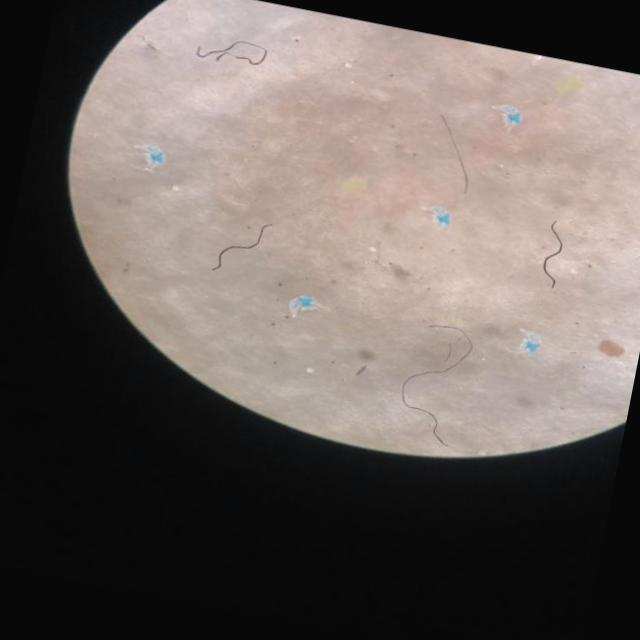fiber: (400, 326, 472, 447), (213, 225, 268, 271), (440, 117, 467, 192), (195, 41, 267, 66), (542, 223, 562, 288)
film: (289, 296, 318, 317), (501, 108, 521, 127), (141, 145, 165, 159), (429, 211, 449, 227), (523, 334, 539, 354)
fragment: (341, 176, 366, 196), (598, 340, 623, 359), (556, 77, 581, 96)
pellet: (306, 368, 312, 373), (370, 247, 376, 252), (173, 187, 177, 190)
